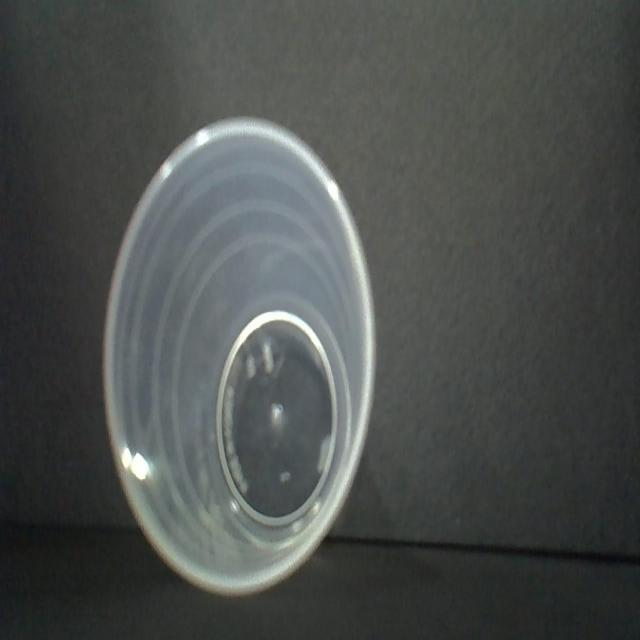cup: (100, 114, 378, 603)
